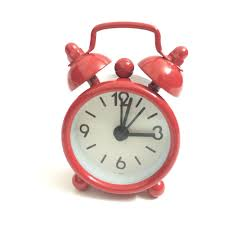alarm_clock: (60, 18, 187, 199)
